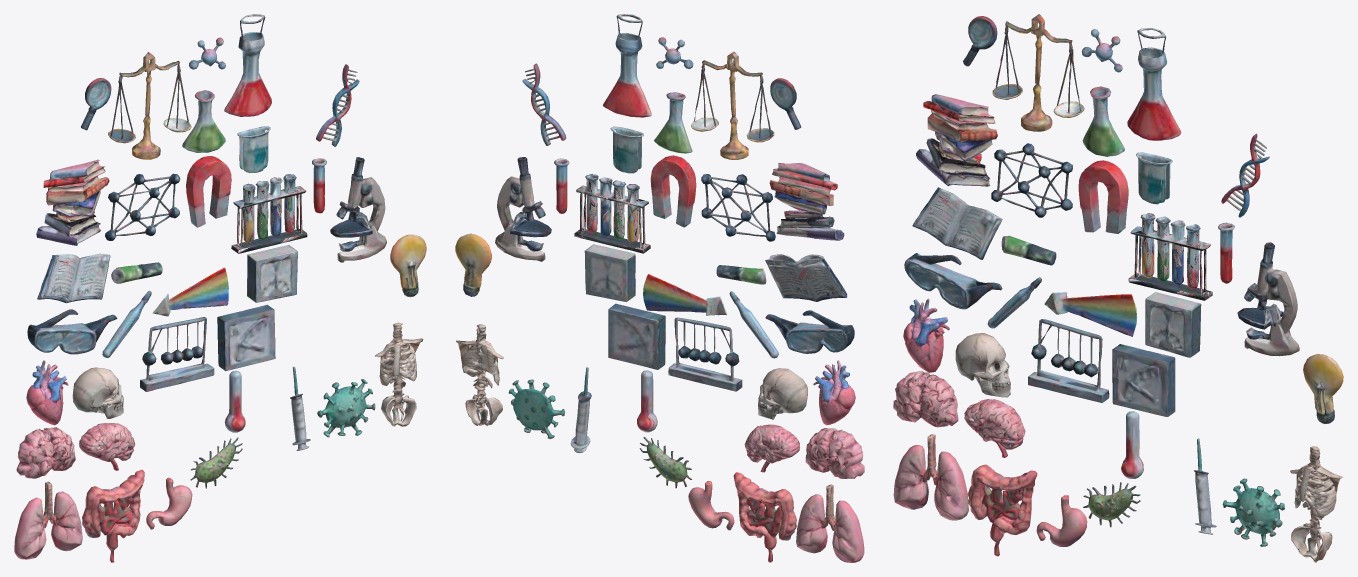
The picture shows the model from 3 angles, left to right: view 1: azimuth 30°, elevation 25°; view 2: azimuth 150°, elevation 25°; view 3: azimuth 330°, elevation 25°; orthographic projection. The views are drawn at different scales.
Parts seen in each view (by area): view 1: Mesh 6, Mesh 36, Mesh 48, Mesh 2, Mesh 33, Mesh 15, Mesh 16, Mesh 49, Mesh 19, Mesh 38, Mesh 21, Mesh 35 (+22 smaller); view 2: Mesh 36, Mesh 6, Mesh 2, Mesh 48, Mesh 33, Mesh 15, Mesh 16, Mesh 49, Mesh 38, Mesh 19, Mesh 21, Mesh 35 (+22 smaller); view 3: Mesh 6, Mesh 36, Mesh 48, Mesh 2, Mesh 33, Mesh 15, Mesh 16, Mesh 49, Mesh 19, Mesh 38, Mesh 35, Mesh 21 (+22 smaller).
Boxes of the visible parts, left/top/right/bottom form: Mesh 6: left=36, top=159, right=109, bottom=245; Mesh 36: left=231, top=174, right=307, bottom=253; Mesh 48: left=330, top=157, right=386, bottom=262; Mesh 2: left=14, top=481, right=82, bottom=559; Mesh 33: left=217, top=304, right=275, bottom=371; Mesh 15: left=82, top=469, right=144, bottom=562; Mesh 16: left=37, top=253, right=110, bottom=303; Mesh 49: left=375, top=322, right=423, bottom=426; Mesh 19: left=108, top=52, right=191, bottom=159; Mesh 38: left=247, top=245, right=297, bottom=302; Mesh 21: left=140, top=317, right=214, bottom=391; Mesh 35: left=224, top=14, right=271, bottom=116; Mesh 36: left=574, top=173, right=650, bottom=253; Mesh 6: left=769, top=163, right=844, bottom=240; Mesh 2: left=796, top=484, right=864, bottom=562; Mesh 48: left=495, top=157, right=551, bottom=261; Mesh 33: left=608, top=303, right=665, bottom=369; Mesh 15: left=733, top=472, right=796, bottom=562; Mesh 16: left=765, top=254, right=847, bottom=301; Mesh 49: left=456, top=324, right=503, bottom=426; Mesh 38: left=584, top=244, right=635, bottom=302; Mesh 19: left=691, top=51, right=774, bottom=159; Mesh 21: left=668, top=317, right=742, bottom=391; Mesh 35: left=603, top=14, right=651, bottom=117; Mesh 6: left=916, top=94, right=997, bottom=186; Mesh 36: left=1128, top=213, right=1212, bottom=300; Mesh 48: left=1237, top=242, right=1299, bottom=356; Mesh 2: left=893, top=434, right=968, bottom=520; Mesh 33: left=1112, top=344, right=1175, bottom=416; Mesh 15: left=967, top=464, right=1037, bottom=556; Mesh 16: left=912, top=187, right=1002, bottom=259; Mesh 49: left=1290, top=446, right=1342, bottom=562; Mesh 19: left=992, top=14, right=1084, bottom=131; Mesh 38: left=1145, top=292, right=1201, bottom=357; Mesh 35: left=1127, top=28, right=1181, bottom=140; Mesh 21: left=1028, top=319, right=1109, bottom=402.
Bounding box in the file's own units: 1.59 × 1.89 × 0.121.
34 materials, 34 textured.
